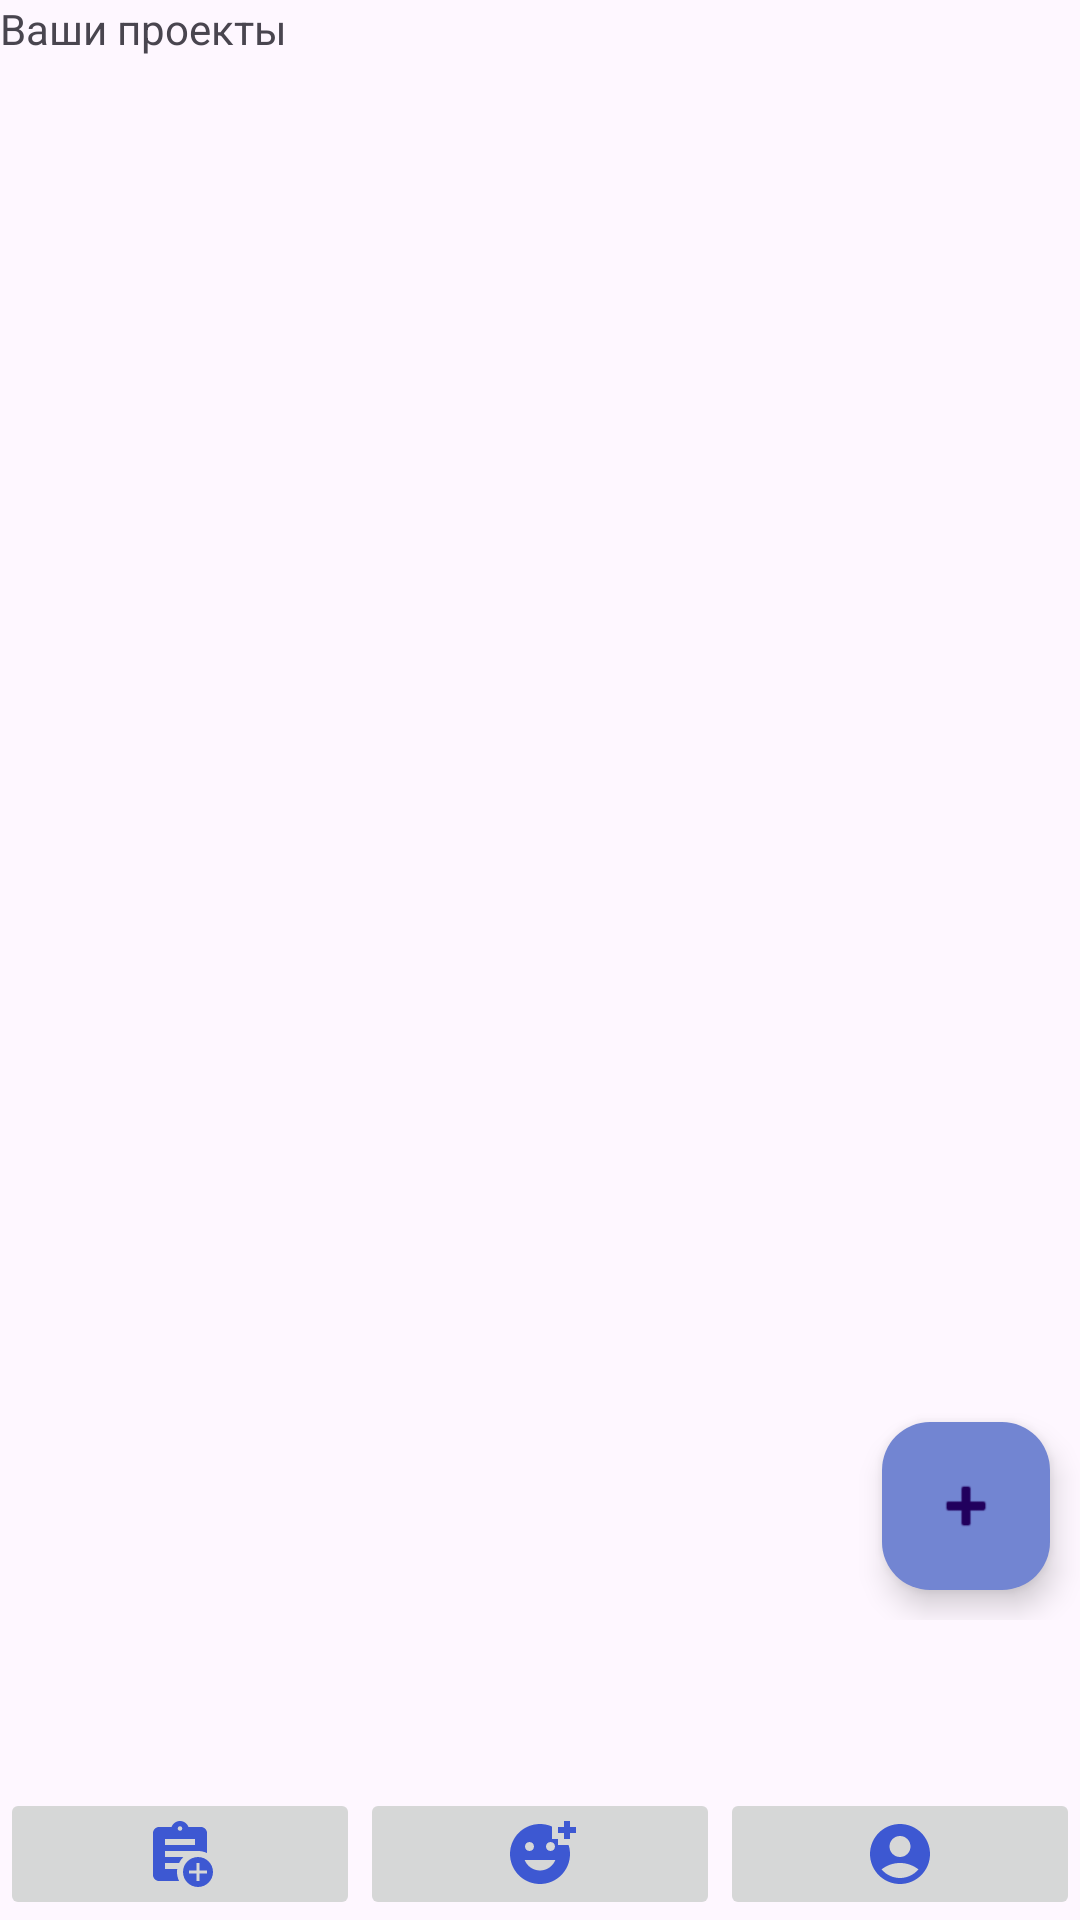

Icons on this 1080 × 1920 Android screen, each with its box as (x1, y1, x2, y2):
account circle: (732, 1806, 1068, 1902)
add: (882, 1422, 1050, 1590)
add reaction: (372, 1806, 708, 1902)
assignment add: (12, 1806, 348, 1902)
